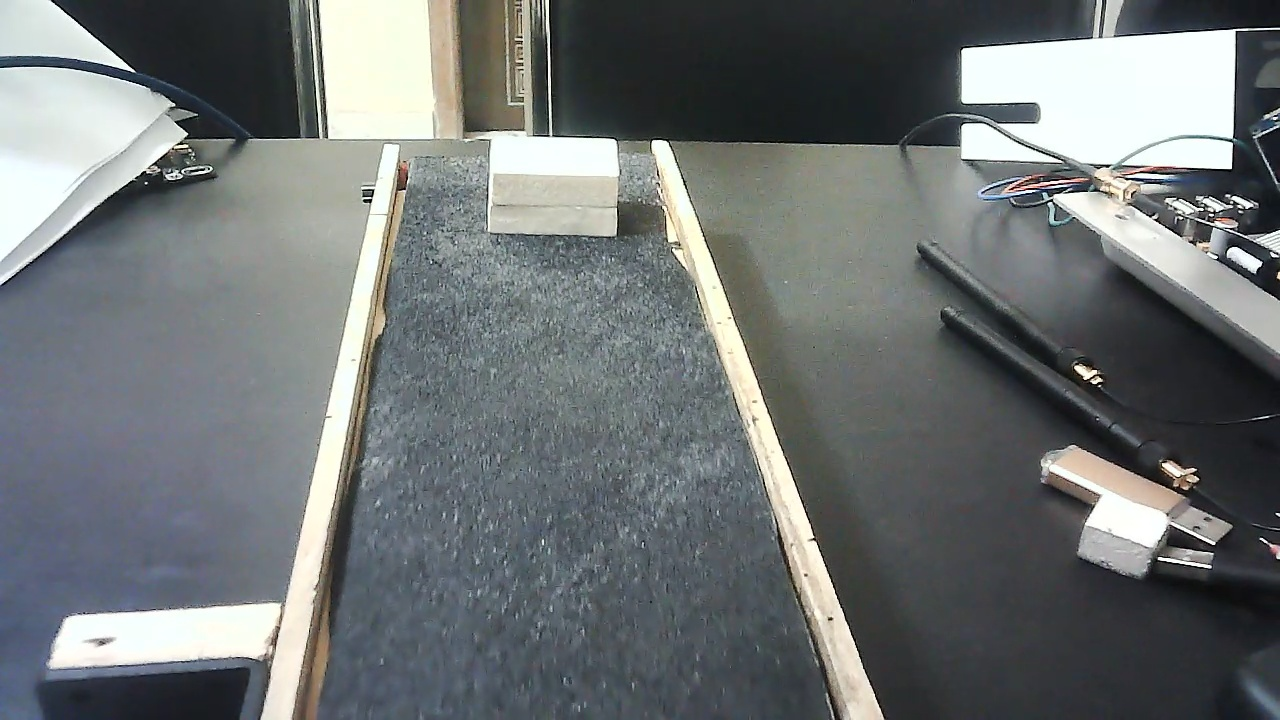BIG: (489, 121, 619, 251)
